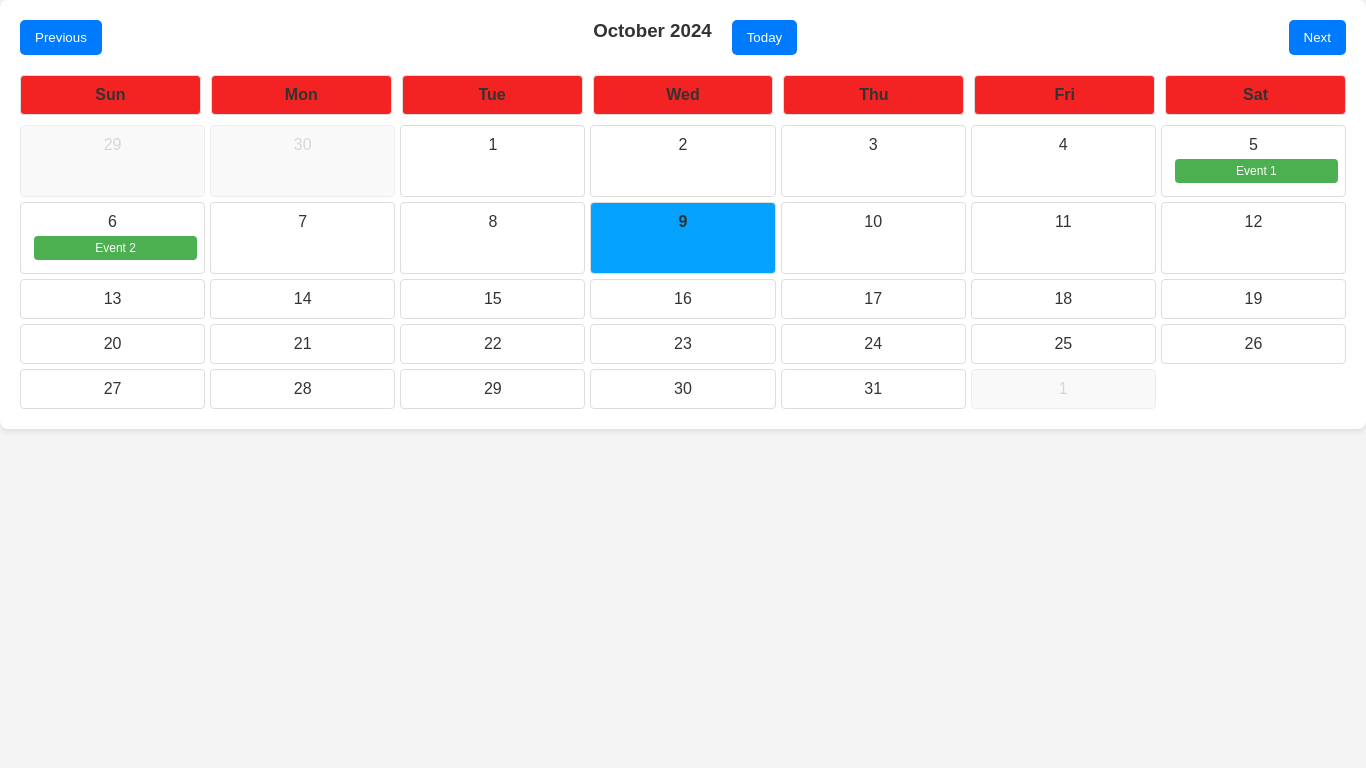
Test: Calendar Component › opens form on clicking a date
Click the text "5". click: click(1253, 144)
box: [1249,136,1258,153]
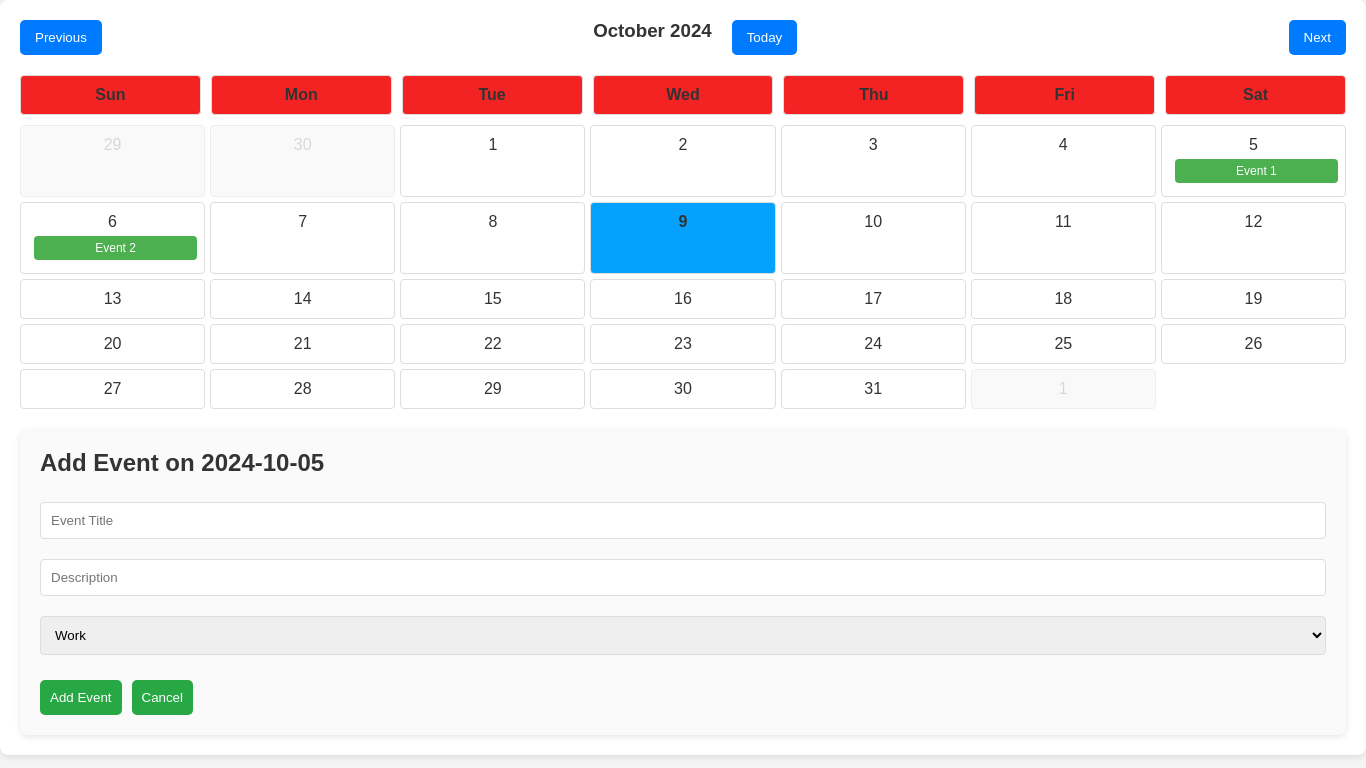
Expected: the heading "Add Event on 2024-10-05" is shown, [40,449,324,476]
